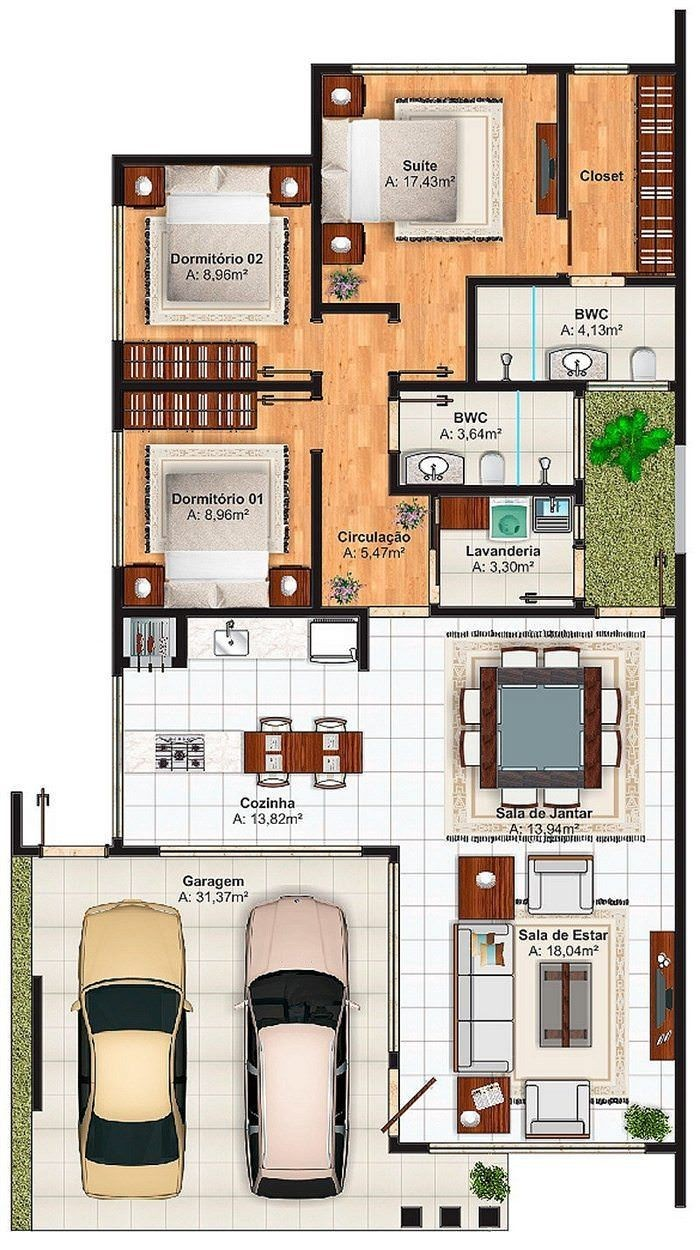room: (311, 65, 568, 285), (110, 152, 320, 392), (109, 379, 319, 619), (387, 376, 585, 494)
window: (427, 1141, 646, 1153), (159, 845, 363, 857), (387, 863, 398, 1053), (111, 673, 123, 842)
